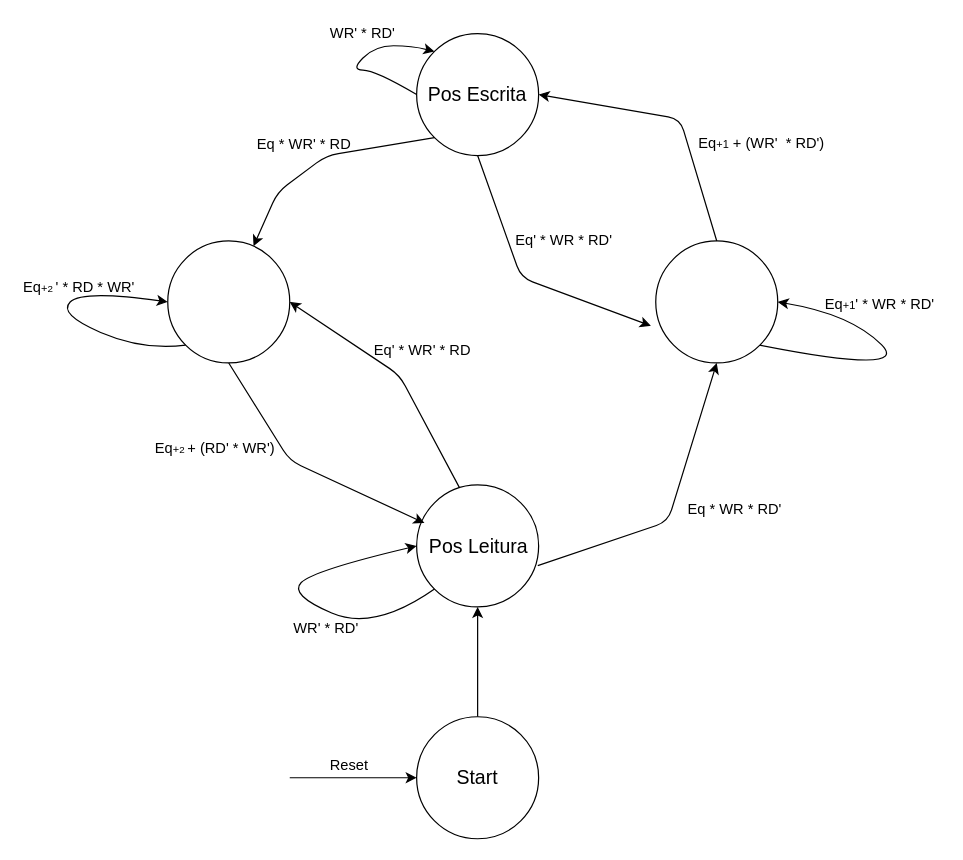
This 963x860 diagram has some shape labels left out. The centre of each missing label's shape, as x and y in pixels:
Escrita: pixel 716 301
Leitura: pixel 228 301
